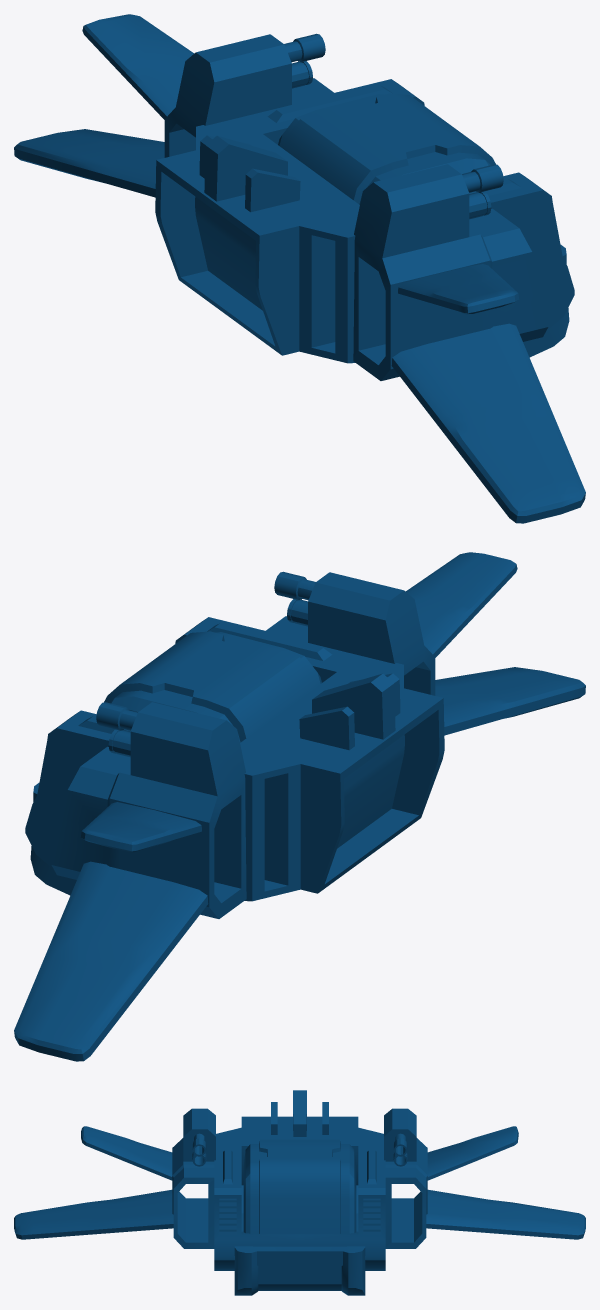
Rendered from EnemyTypeMutant.obj.
3 views of the same model, one above another, from view 1: azimuth 30°, elevation 25°; view 2: azimuth 150°, elevation 25°; view 3: azimuth 270°, elevation 25° (orthographic). The views are drawn at different scales.
Visible parts, largest first — view 1: EnemyTypeMutant_Mutant; view 2: EnemyTypeMutant_Mutant; view 3: EnemyTypeMutant_Mutant.
Boxes of the visible parts, x1=… form: EnemyTypeMutant_Mutant: x1=14, y1=14, x2=585, y2=523; EnemyTypeMutant_Mutant: x1=14, y1=552, x2=585, y2=1061; EnemyTypeMutant_Mutant: x1=14, y1=1090, x2=585, y2=1295.
Size of the model in its own units: 0.4109 by 0.3056 by 1.16.
